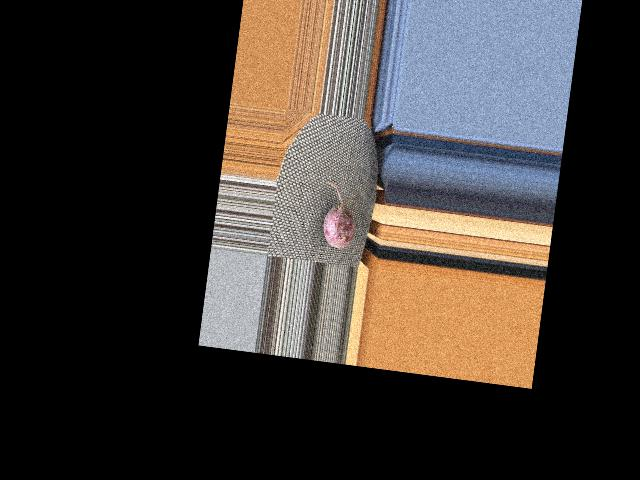beet: (317, 181, 361, 249)
